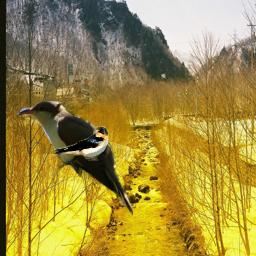Cuckoo: (16, 101, 133, 218)
Swallow: (42, 126, 109, 161)
